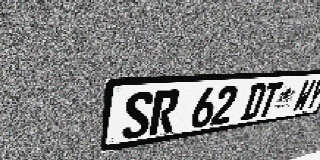2: (210, 85, 240, 126)
6: (189, 86, 220, 129)
D: (240, 83, 268, 121)
R: (149, 89, 181, 136)
S: (121, 91, 155, 140)
T: (256, 82, 283, 118)
W: (291, 79, 317, 112)
Y: (303, 79, 320, 110)
